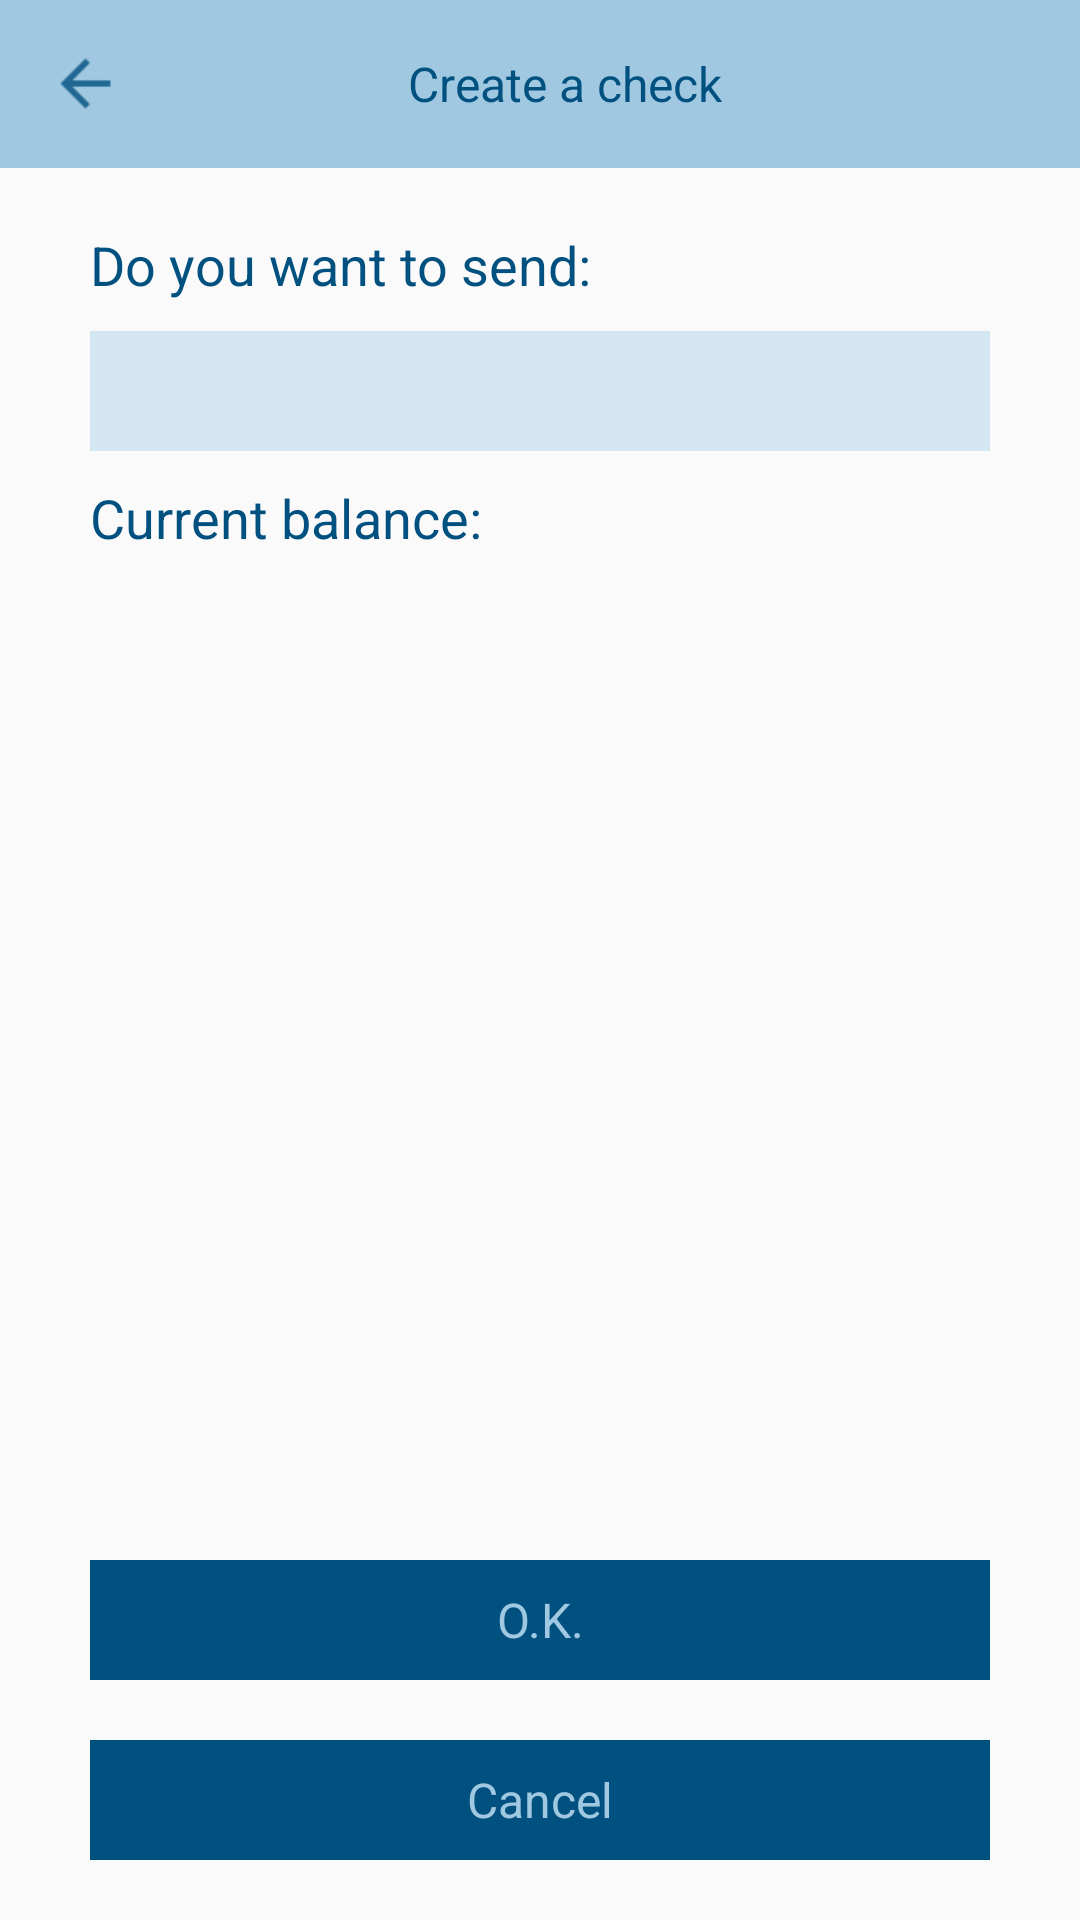

Icon click points for this 1080w x 1920h phone screenshot, format (x,y):
arrow back: (85,83)
